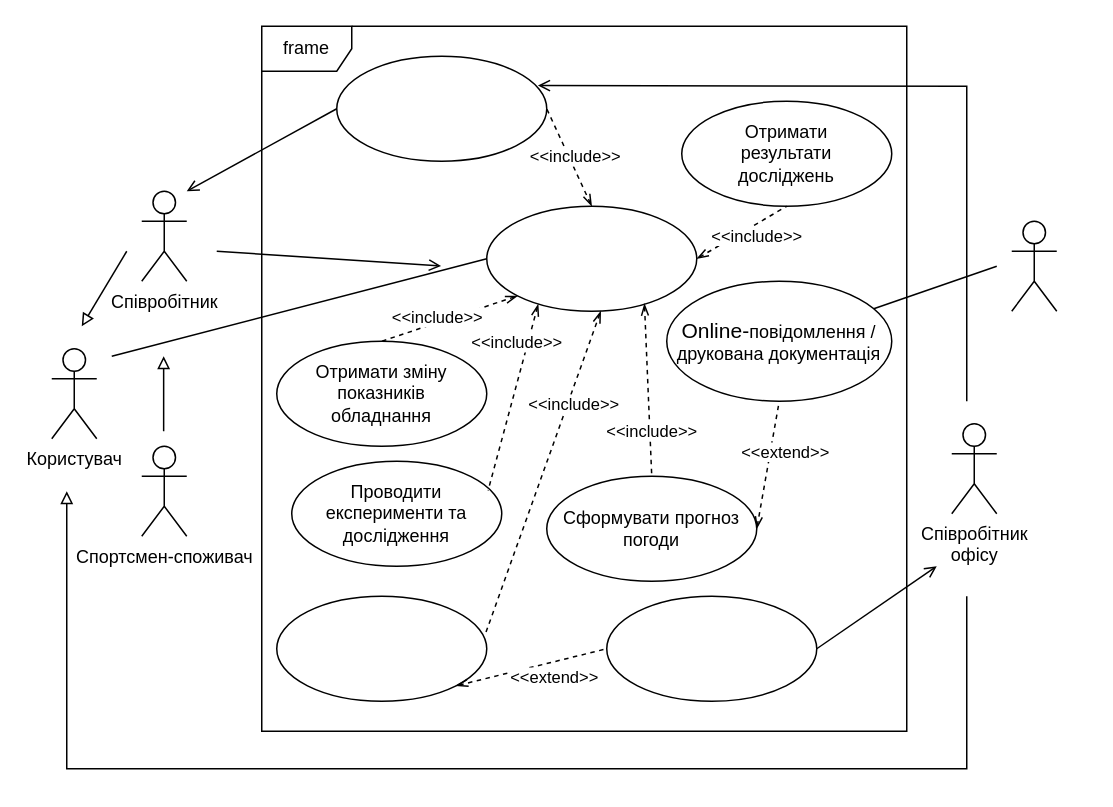
The diagram is 1113 pixels wide and 807 high, and some of its shapes have lost their labels. The shapes that lost their labels are listed below. From the top down, each one's centre as x and y in pixels, then its label:
point (441, 108): Отримати технічні відповіді
point (591, 258): Авторизувати користувача
point (1033, 265): Телебачення
point (381, 648): Задати технічні питання
point (711, 648): Online- повідомлення
